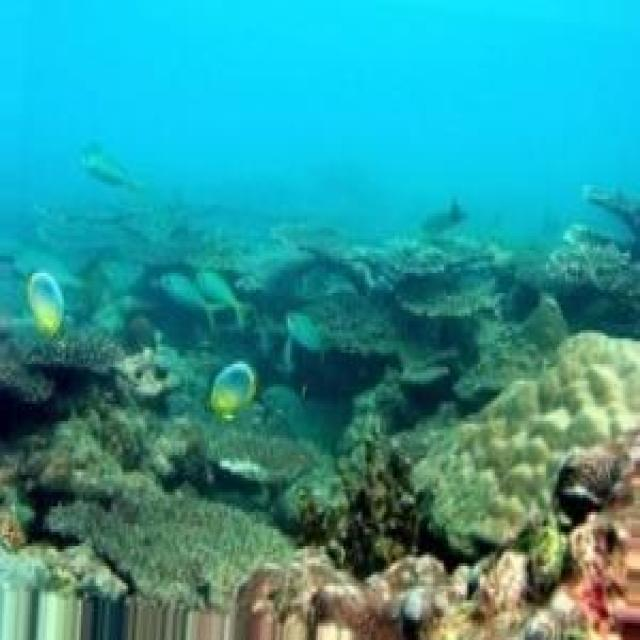bleached coral: (348, 552, 561, 640), (555, 427, 640, 640), (297, 449, 431, 555), (34, 415, 154, 515), (559, 338, 640, 435), (228, 563, 301, 640), (105, 338, 177, 412), (215, 458, 277, 486), (21, 526, 87, 552)
healthy coral: (241, 230, 499, 316), (34, 250, 239, 344), (521, 185, 640, 333), (286, 299, 405, 412), (454, 321, 559, 418), (207, 358, 267, 427)
